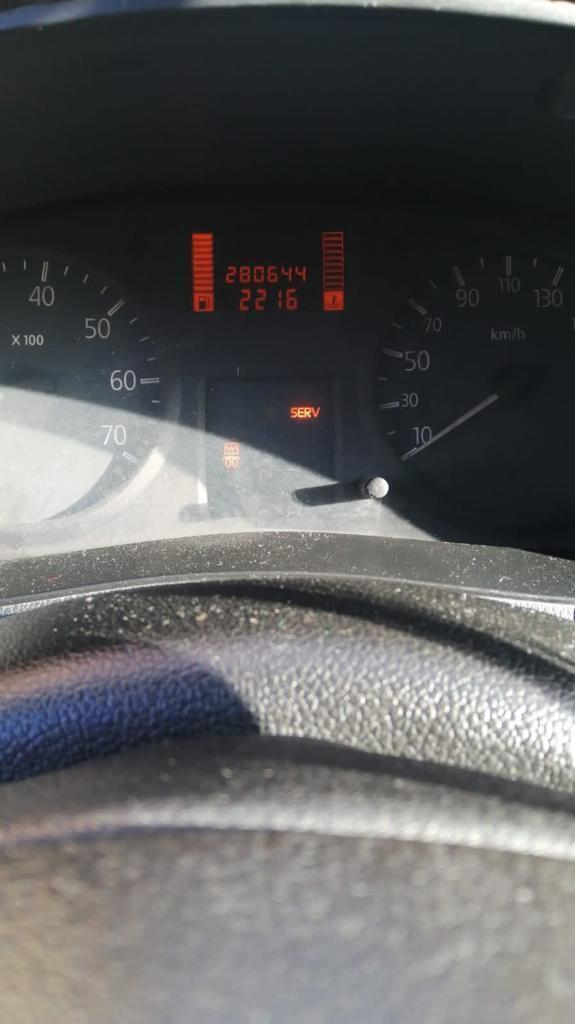0: (251, 264, 265, 283)
1: (275, 288, 283, 310)
2: (238, 287, 252, 311), (253, 286, 266, 311), (224, 265, 237, 284)
4: (279, 264, 293, 283), (294, 263, 307, 282)
6: (285, 287, 298, 310), (266, 264, 279, 283)
8: (238, 264, 251, 283)
odometer: (175, 218, 355, 315)
